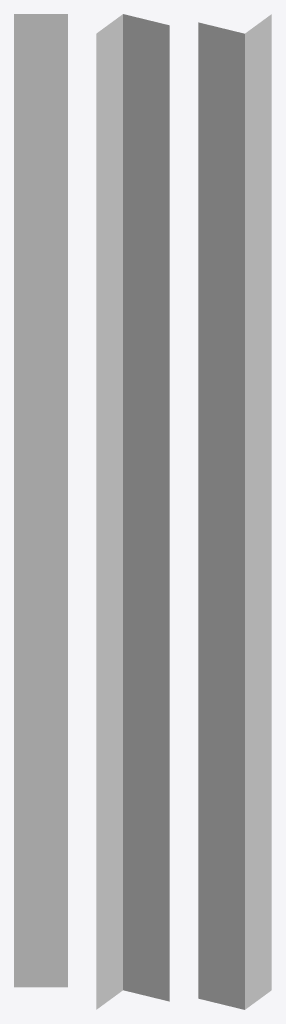
The model's file is EndPcsCornerV1Plain.fbx.
3 views of the same model, side by side, from view 1: azimuth 90°, elevation 25°; view 2: azimuth 150°, elevation 25°; view 3: azimuth 330°, elevation 25° (orthographic).
Visible parts, largest first — view 1: EndPcsCornerV1Plain; view 2: EndPcsCornerV1Plain; view 3: EndPcsCornerV1Plain.
Boxes of the visible parts, bbox=[...] form: EndPcsCornerV1Plain: bbox=[14, 14, 67, 987]; EndPcsCornerV1Plain: bbox=[96, 14, 169, 1009]; EndPcsCornerV1Plain: bbox=[198, 14, 271, 1009].
Size of the model in its own units: 10 by 200 by 10.
